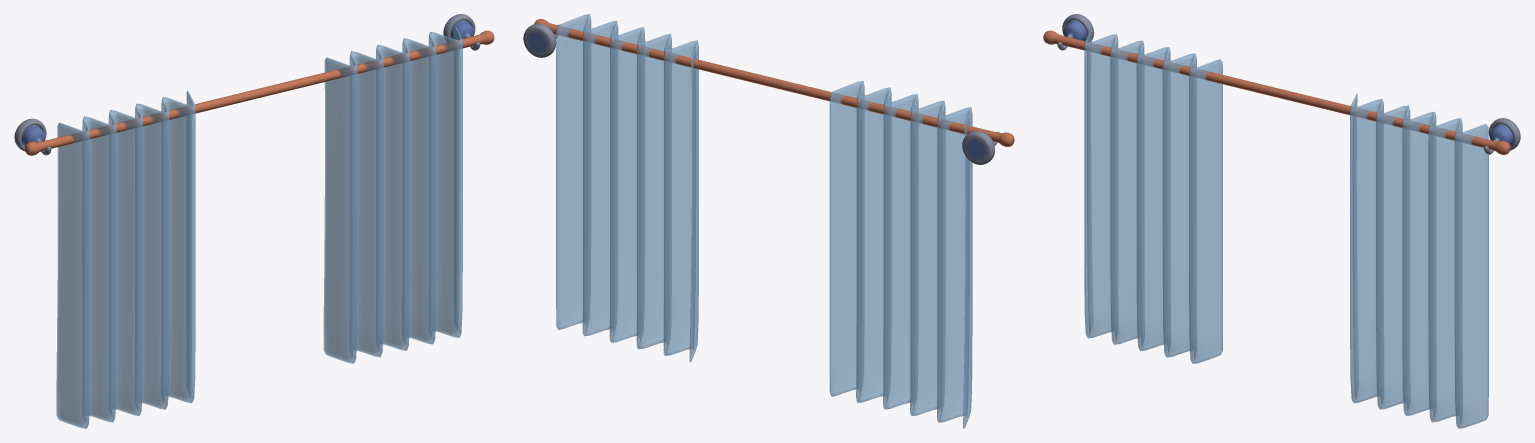
File: Curtains.fbx
3 renders of one model, left to right at view 1: azimuth 30°, elevation 25°; view 2: azimuth 150°, elevation 25°; view 3: azimuth 330°, elevation 25°, orthographic. The views are drawn at different scales.
Parts seen in each view (by area): view 1: Curtain, Curtain.001, Cylinder, Circle; view 2: Curtain, Curtain.001, Cylinder, Circle; view 3: Curtain, Curtain.001, Cylinder, Circle.
Part boxes in pixels (box(x1,y1,x2,y2)): Curtain: box(56, 91, 195, 428); Curtain.001: box(323, 25, 462, 363); Cylinder: box(24, 30, 494, 155); Circle: box(14, 14, 480, 155); Curtain: box(829, 80, 972, 428); Curtain.001: box(556, 14, 698, 362); Cylinder: box(534, 19, 1014, 146); Circle: box(523, 23, 999, 164); Curtain: box(1084, 28, 1222, 363); Curtain.001: box(1350, 93, 1488, 428); Cylinder: box(1043, 30, 1510, 154); Circle: box(1057, 14, 1520, 154).
Size of the model in its own units: 1782 by 1096 by 191.
